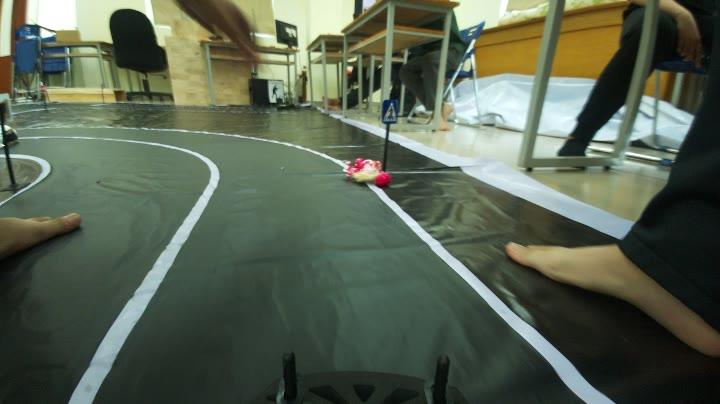crosswalk: (376, 97, 404, 126)
